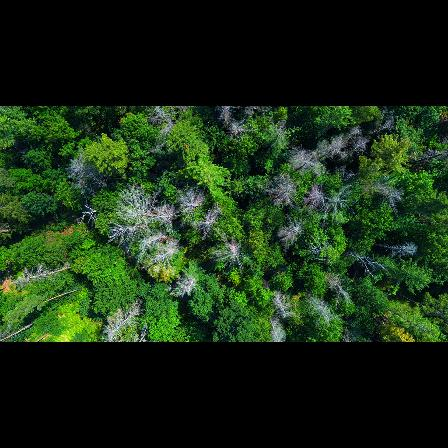Dead: (119, 184, 175, 223), (11, 263, 79, 291), (100, 301, 142, 342), (347, 178, 406, 206), (67, 150, 106, 190), (210, 238, 252, 274), (259, 175, 304, 208), (316, 130, 359, 162), (147, 236, 180, 273), (175, 184, 207, 219), (344, 250, 387, 275), (144, 106, 181, 133), (326, 273, 356, 306), (276, 220, 306, 251), (308, 294, 335, 328), (197, 204, 221, 242), (102, 217, 150, 236), (339, 138, 371, 166), (269, 289, 298, 319), (323, 186, 348, 219), (370, 242, 418, 259), (301, 180, 324, 214), (221, 121, 254, 143), (0, 322, 35, 341), (76, 203, 100, 230), (141, 228, 166, 253), (371, 110, 395, 136), (291, 156, 315, 175), (217, 106, 238, 127)
